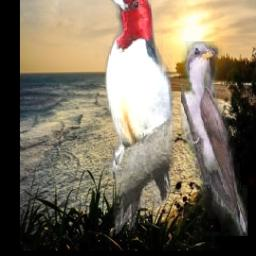Cuckoo: (181, 42, 247, 237)
Woodpecker: (102, 0, 175, 237)
